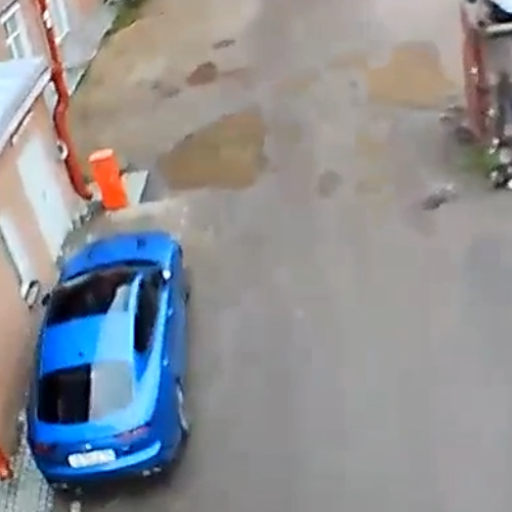Car: (26, 228, 191, 492)
